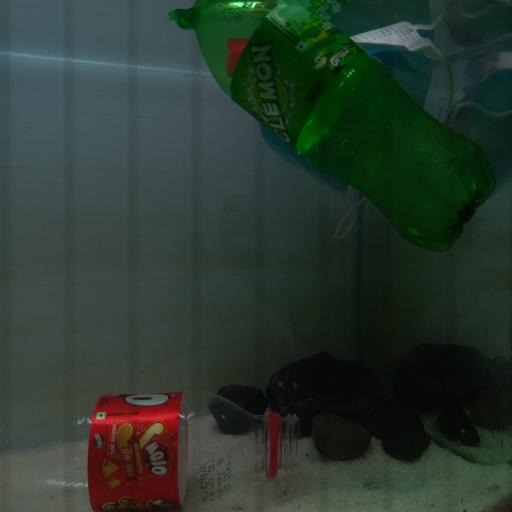mask: (261, 21, 457, 238)
plastic_bottle: (175, 2, 497, 254), (0, 391, 301, 512)
